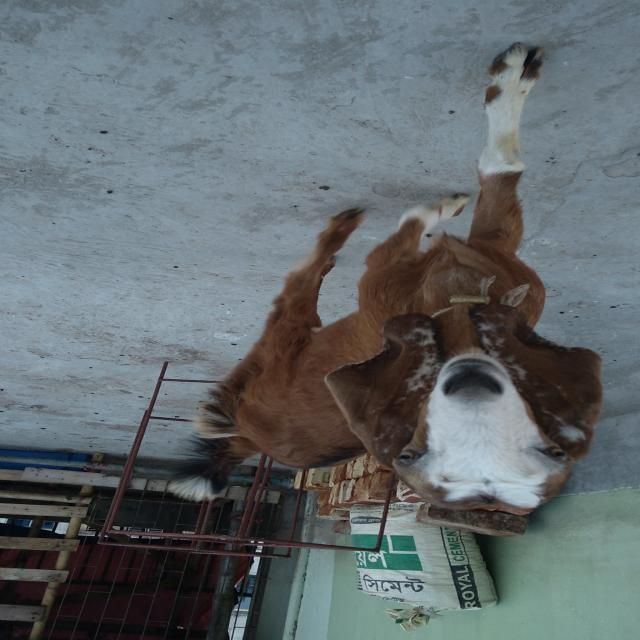Goat: (167, 43, 605, 518)
